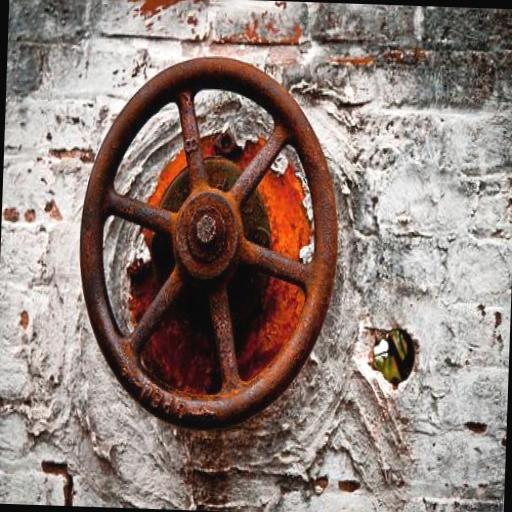corrosion: (134, 300, 237, 401), (231, 264, 307, 379), (251, 160, 317, 265), (127, 229, 160, 323), (142, 147, 191, 208), (231, 131, 265, 170)
